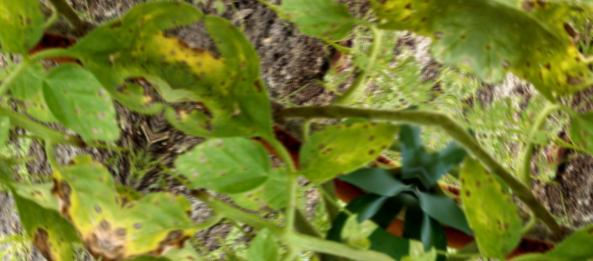Tomato Septoria leaf spot: (286, 94, 400, 203), (168, 110, 282, 214), (339, 0, 495, 70), (101, 176, 209, 261), (229, 0, 367, 49), (108, 227, 215, 261)
